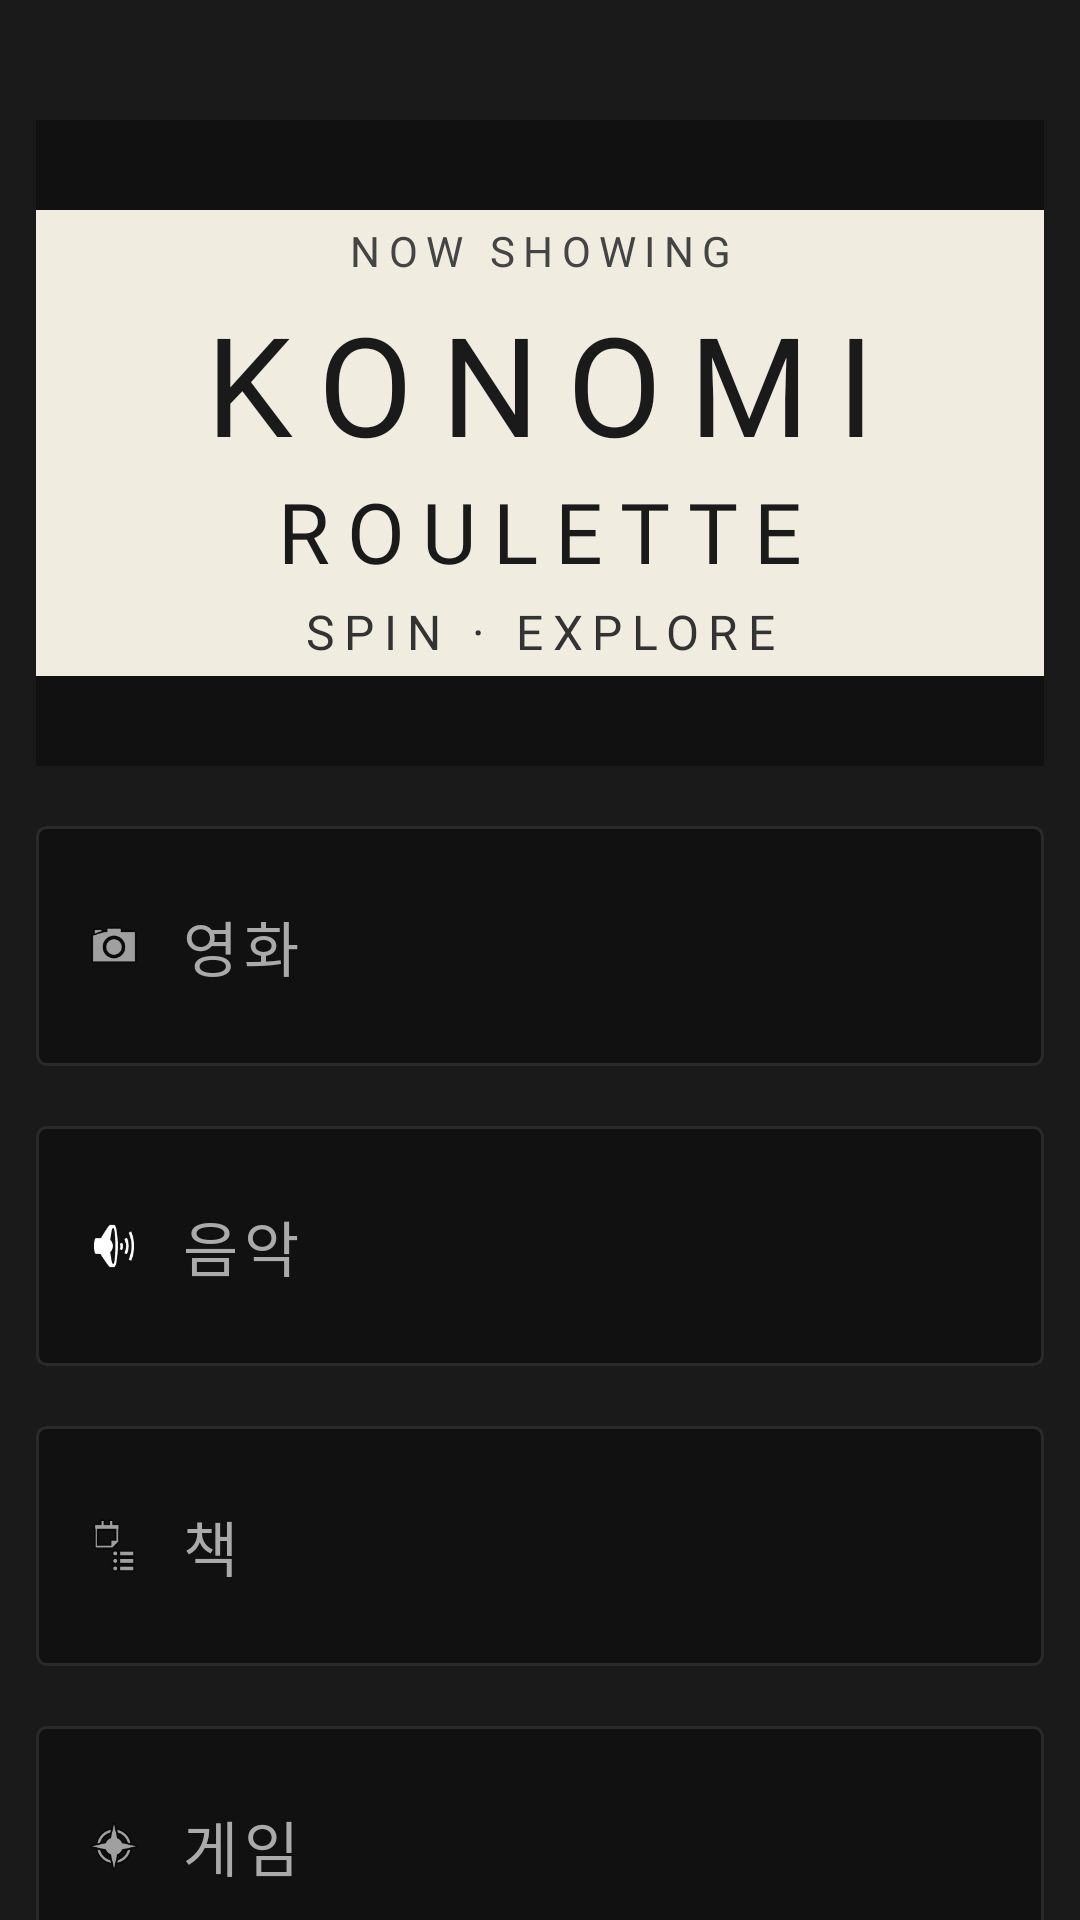

Named icons in this screenshot (1080*1920) and their centers, (x,y):
agenda: (114,1546)
camera: (114,945)
compass: (114,1846)
lock silent mode off: (114,1246)
